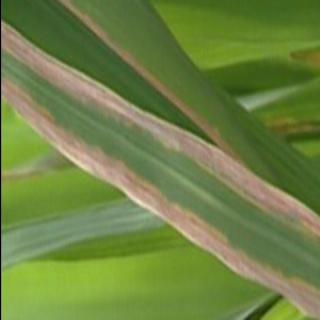Hawar-Daun: (0, 69, 319, 319), (0, 20, 319, 246)
